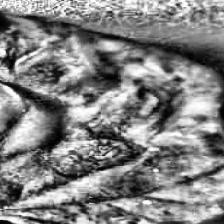disease: (0, 13, 224, 224)
